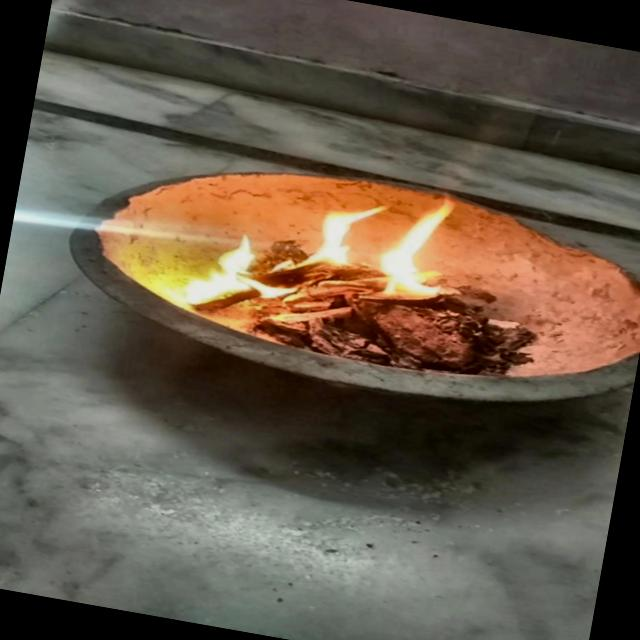fire: (220, 164, 461, 315)
